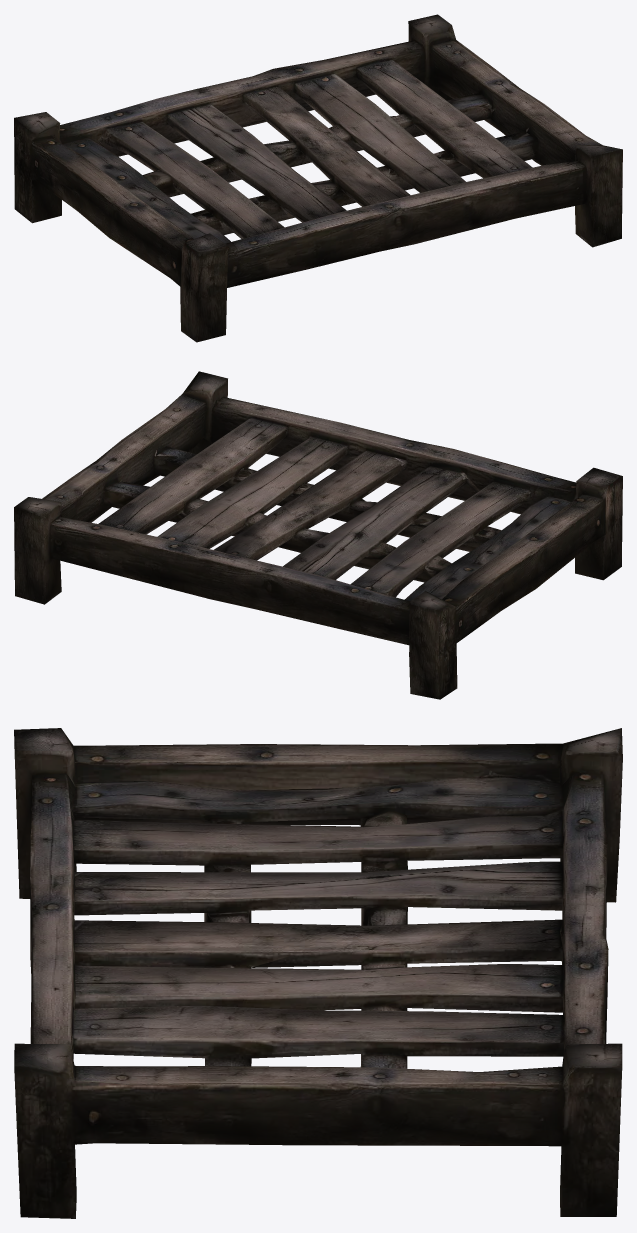
File: bed.glb
The picture shows the model from 3 angles, top to bottom: view 1: azimuth 30°, elevation 25°; view 2: azimuth 150°, elevation 25°; view 3: azimuth 270°, elevation 25°; orthographic projection. The views are drawn at different scales.
Visible parts, largest first — view 1: Mesh1.0; view 2: Mesh1.0; view 3: Mesh1.0.
Boxes of the visible parts, box(x1,y1,x2,y2) form: Mesh1.0: box(14, 14, 622, 342); Mesh1.0: box(14, 371, 622, 699); Mesh1.0: box(14, 728, 622, 1218).
Size of the model in its own units: 2 by 0.4137 by 1.5.
Materials: 1 (1 with a texture image).
